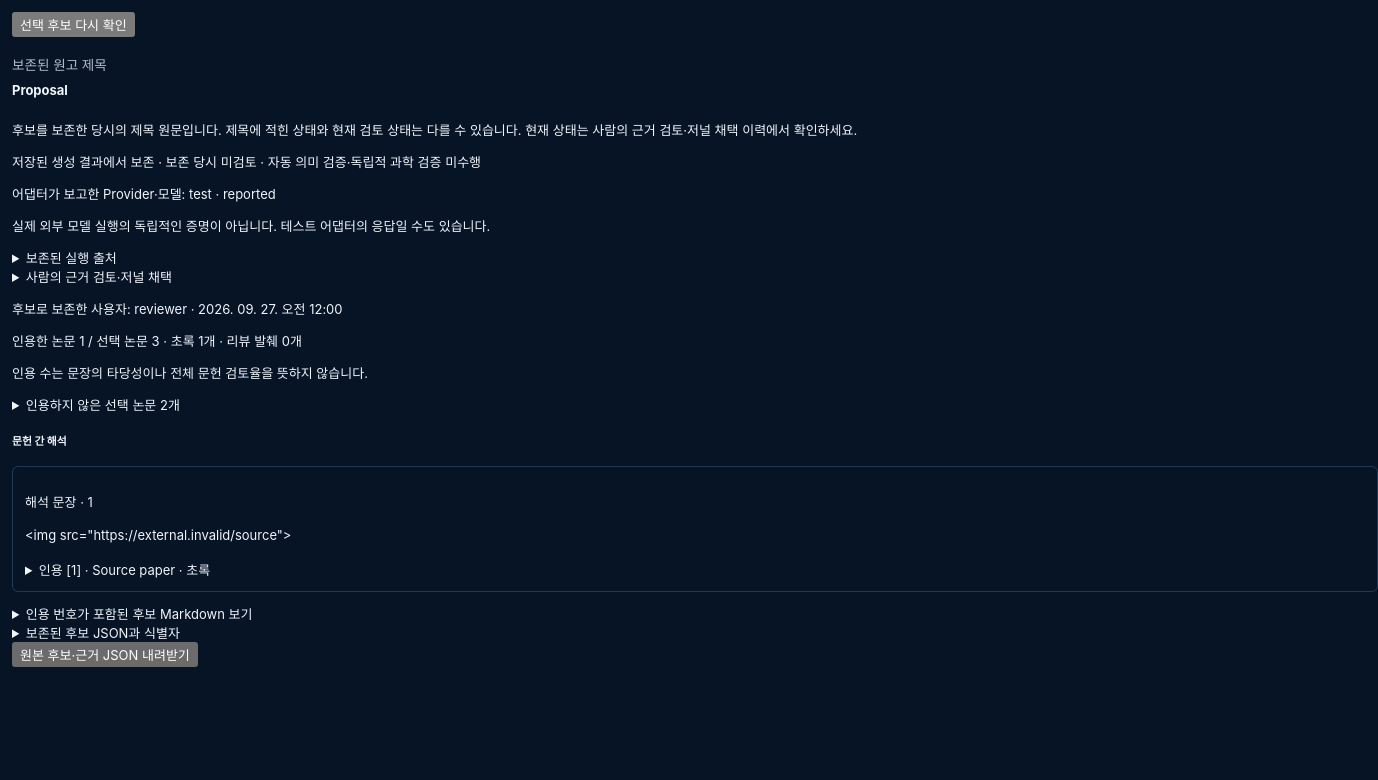
Test: labels generated provenance separately without claiming verified live execution or import authorship
Check: the text "어댑터가 보고한 Provider·모델: test · reported" is shown, box [12,186,276,202]
Check: the text "실제 외부 모델 실행의 독립적인 증명이 아닙니다. 테스트 어댑터의 응답일 수도 있습니다." is shown, box [12,218,490,234]
Click the heading "보존된 실행 출처" at (71, 258), box [26,250,117,266]
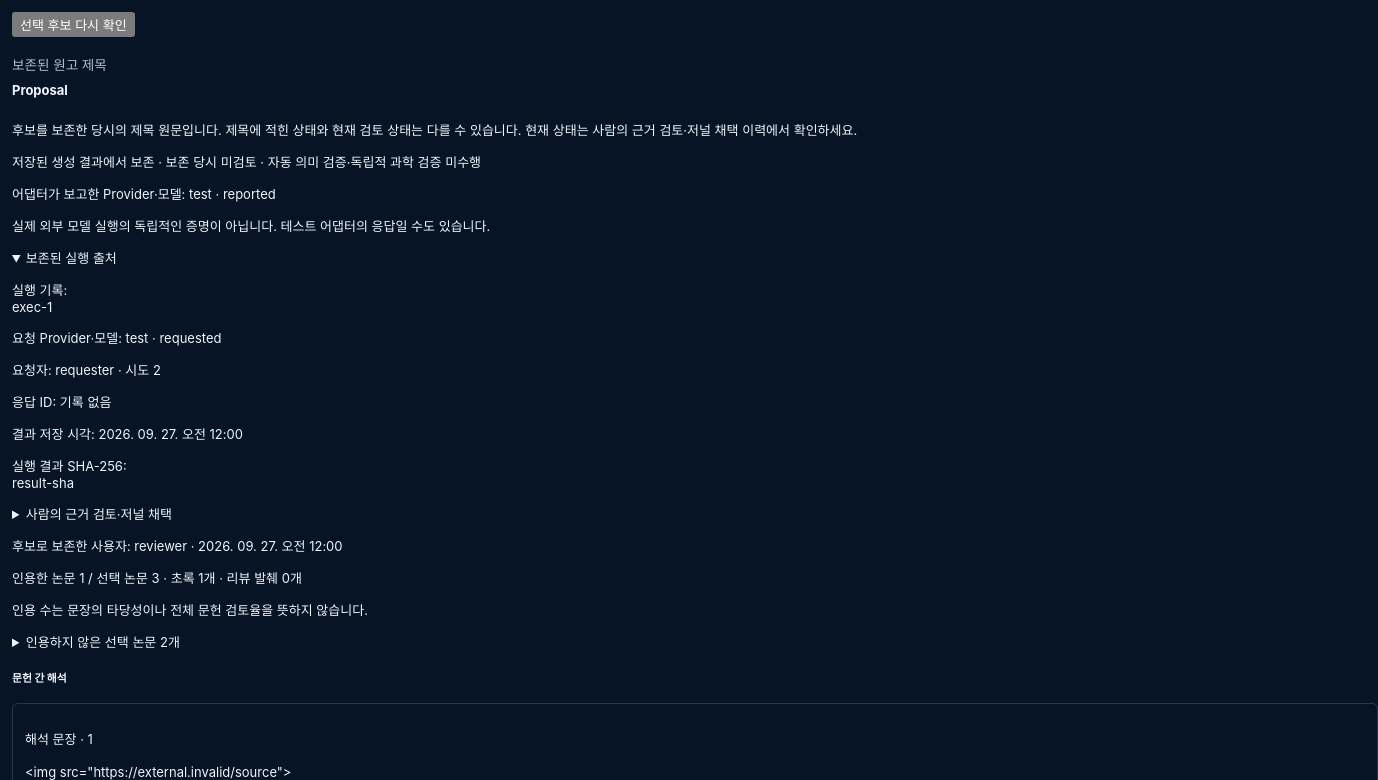
Check: the text "요청 Provider·모델: test · requested" is shown, box [12,330,222,346]
Check: the text "응답 ID: 기록 없음" is shown, box [12,394,111,410]
